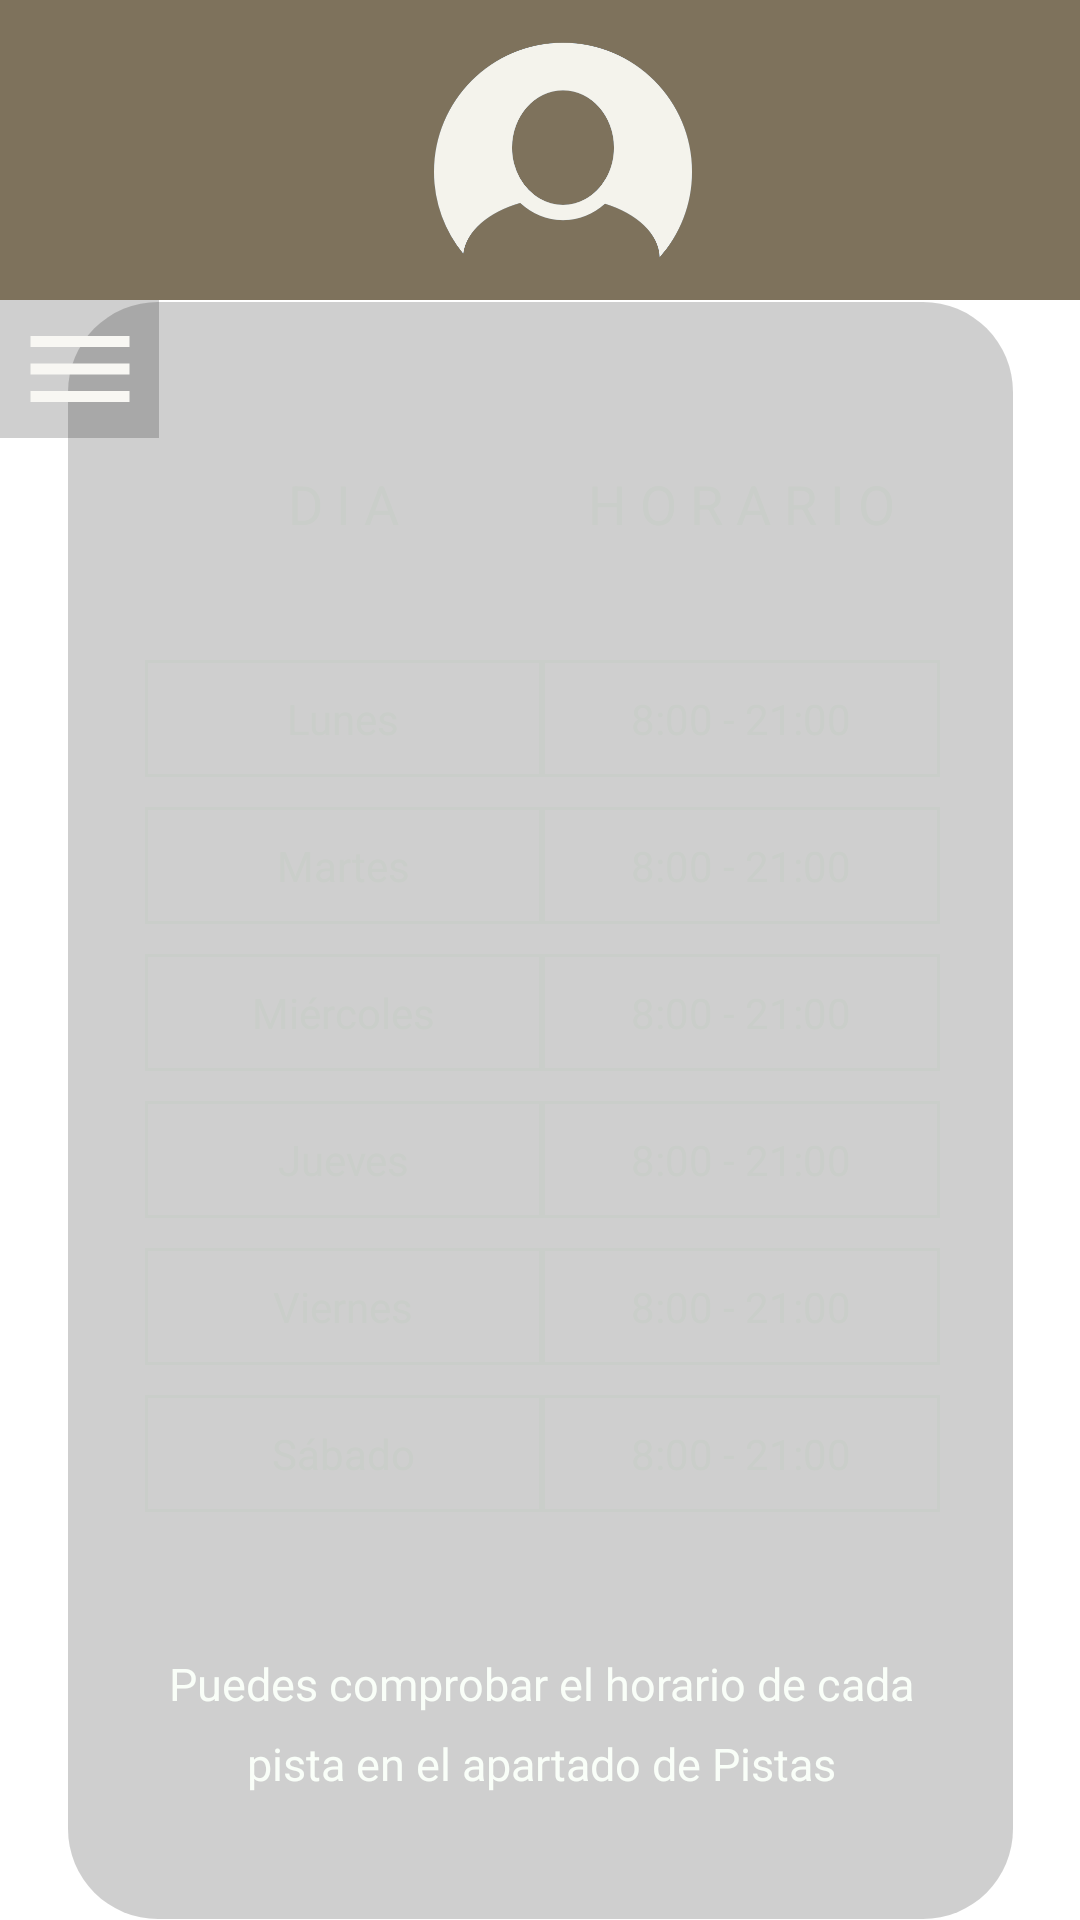

Point at icon controls on the screen. Image size 1080px×1920px, points as (x=x, y=y).
Open menu: (x=79, y=369)
user: (x=563, y=150)
